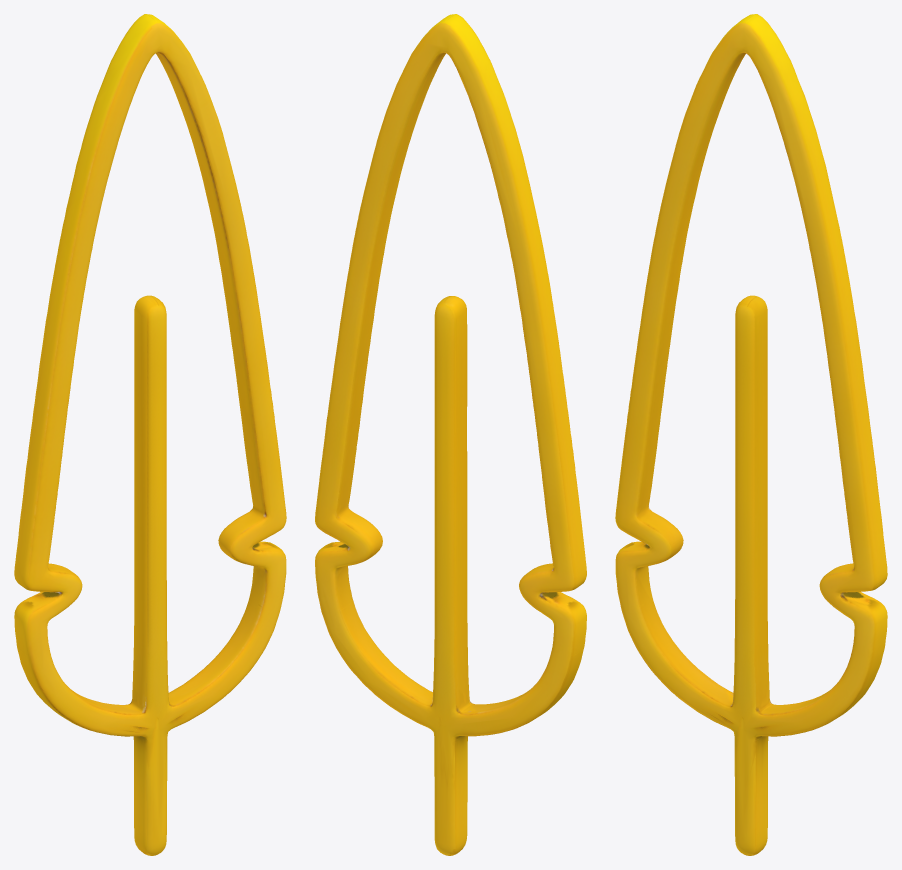
Rendered from base_basic_shaded-v1.glb.
3 renders of one model, left to right at view 1: azimuth 30°, elevation 25°; view 2: azimuth 150°, elevation 25°; view 3: azimuth 330°, elevation 25°, orthographic.
Visible parts, largest first — view 1: model; view 2: model; view 3: model.
Boxes of the visible parts, x1,y1,x2,y2 form: model: (14, 14, 286, 855); model: (315, 14, 586, 855); model: (615, 14, 887, 855).
Size of the model in its own units: 0.0492 by 0.15 by 0.00518.
Materials: 1 (1 with a texture image).
